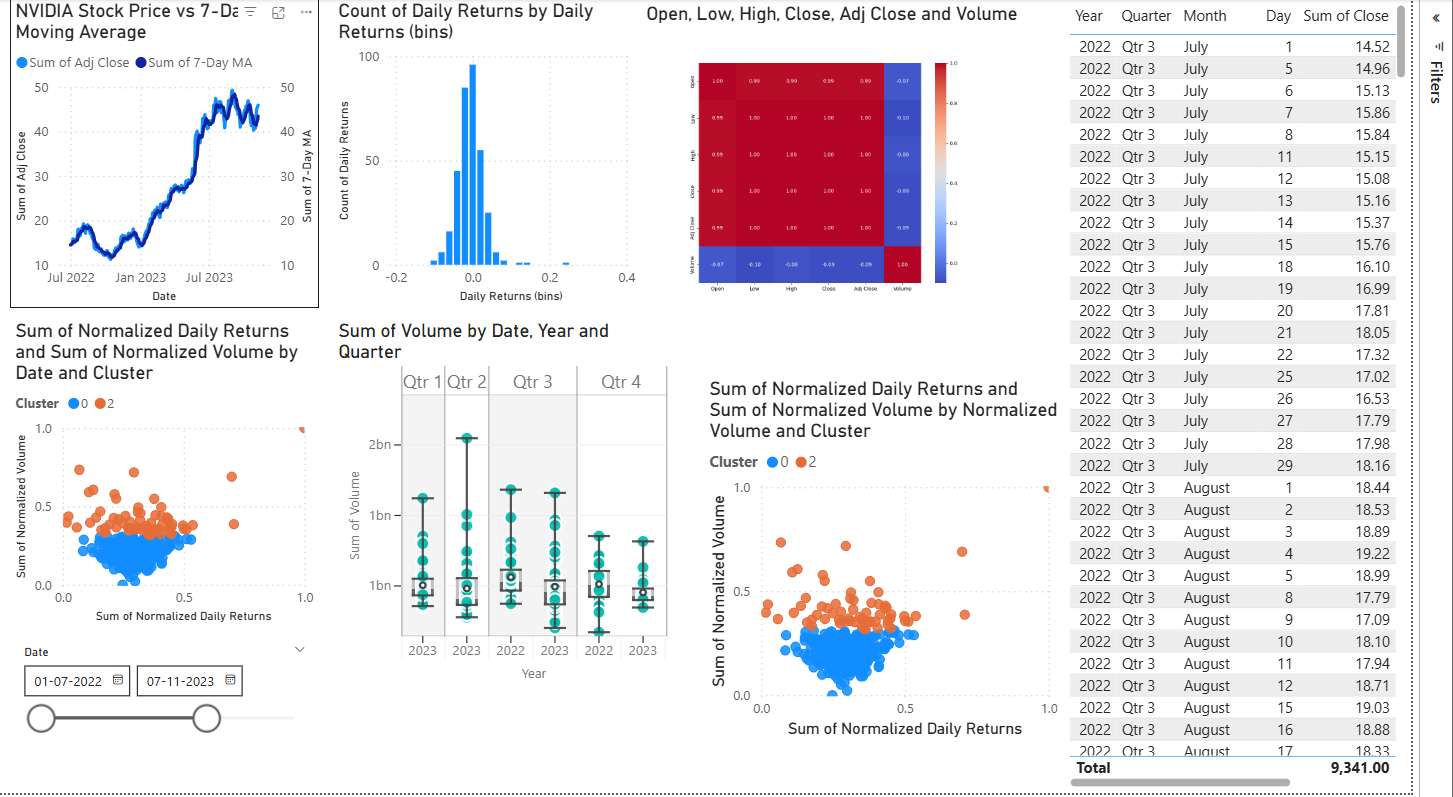

This screenshot's page, from the dashboard's own definition file:
{"tool":"powerbi","page":{"name":"Page 1","canvas":[1280,720],"ordinal":0},"visuals":[{"type":"lineChart","title":"NVIDIA Stock Price vs 7-Day Moving Average","fields":{"Y":["Sum(NVDA_Processed_Analysis.Adj Close)"],"Y2":["Sum(NVDA_Processed_Analysis.7-Day MA)"],"Category":["NVDA_Processed_Analysis.Date"]},"box":[10,0,280,280],"z":0},{"type":"scatterChart","fields":{"X":["Sum(NVDA_Processed_Analysis.Normalized Daily Returns)"],"Y":["Sum(NVDA_Processed_Analysis.Normalized Volume)"],"Series":["NVDA_Processed_Analysis.Cluster"],"Category":["NVDA_Processed_Analysis.Date"]},"box":[10,290,280,280],"z":1000},{"type":"slicer","fields":{"Values":["NVDA_Processed_Analysis.Date"]},"box":[10,580.4,280.2,103.4],"z":2000},{"type":"clusteredColumnChart","fields":{"Category":["NVDA_Processed_Analysis.Daily Returns (bins)"],"Y":["CountNonNull(NVDA_Processed_Analysis.Daily Returns)"]},"box":[303,0,280,280],"z":3000},{"type":"BoxandWhiskerByMAQ1823AD39DT234AB532063E128AX","fields":{"measure":["Sum(NVDA_Processed_Analysis.Volume)"],"category":["NVDA_Processed_Analysis.Date"],"categoryGroup":["NVDA_Processed_Analysis.Date.Variation.Date Hierarchy.Year"],"xCategoryParent":["NVDA_Processed_Analysis.Date.Variation.Date Hierarchy.Quarter"]},"box":[302.9,290.2,308.3,340.1],"z":4000},{"type":"pythonVisual","fields":{"Values":["NVDA_Processed_Analysis.Open","NVDA_Processed_Analysis.Low","NVDA_Processed_Analysis.High","NVDA_Processed_Analysis.Close","NVDA_Processed_Analysis.Adj Close","NVDA_Processed_Analysis.Volume"]},"box":[582.3,2.7,348.8,288.4],"z":5000},{"type":"scatterChart","fields":{"Y":["Sum(NVDA_Processed_Analysis.Normalized Volume)"],"X":["Sum(NVDA_Processed_Analysis.Normalized Daily Returns)"],"Series":["NVDA_Processed_Analysis.Cluster"],"Category":["NVDA_Processed_Analysis.Normalized Volume"]},"box":[639.3,342.8,325.5,331.9],"z":6000},{"type":"tableEx","fields":{"Values":["NVDA_Processed_Analysis.Date.Variation.Date Hierarchy.Year","NVDA_Processed_Analysis.Date.Variation.Date Hierarchy.Quarter","NVDA_Processed_Analysis.Date.Variation.Date Hierarchy.Month","NVDA_Processed_Analysis.Date.Variation.Date Hierarchy.Day","Sum(NVDA_Processed_Analysis.Close)","Sum(NVDA_Processed_Analysis.Volume)"]},"box":[964.8,0,315.6,720],"z":7000}]}

Visuals, with their boxes on the page's 1280x720 design canvas (x1, y1, x2, y2). These are canvas units, not pixel positions in the 1453x797 screenshot, which may show the page scaled, cropped or inside an application window:
"NVIDIA Stock Price vs 7-Day Moving Average" lineChart: bbox=(10, 0, 290, 280)
scatterChart - Sum(NVDA_Processed_Analysis.Normalized Daily Returns) x Sum(NVDA_Processed_Analysis.Normalized Volume): bbox=(10, 290, 290, 570)
slicer - NVDA_Processed_Analysis.Date: bbox=(10, 580, 290, 684)
clusteredColumnChart - NVDA_Processed_Analysis.Daily Returns (bins) x CountNonNull(NVDA_Processed_Analysis.Daily Returns): bbox=(303, 0, 583, 280)
BoxandWhiskerByMAQ1823AD39DT234AB532063E128AX - Sum(NVDA_Processed_Analysis.Volume) x NVDA_Processed_Analysis.Date: bbox=(303, 290, 611, 630)
pythonVisual - NVDA_Processed_Analysis.Open x NVDA_Processed_Analysis.Low: bbox=(582, 3, 931, 291)
scatterChart - Sum(NVDA_Processed_Analysis.Normalized Volume) x Sum(NVDA_Processed_Analysis.Normalized Daily Returns): bbox=(639, 343, 965, 675)
tableEx - NVDA_Processed_Analysis.Date.Variation.Date Hierarchy.Year x NVDA_Processed_Analysis.Date.Variation.Date Hierarchy.Quarter: bbox=(965, 0, 1280, 720)
